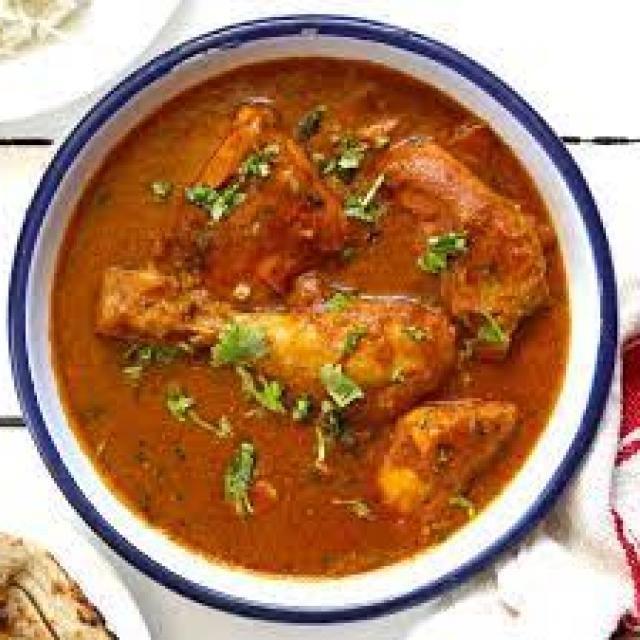Chicken Curry: (48, 54, 572, 583)
